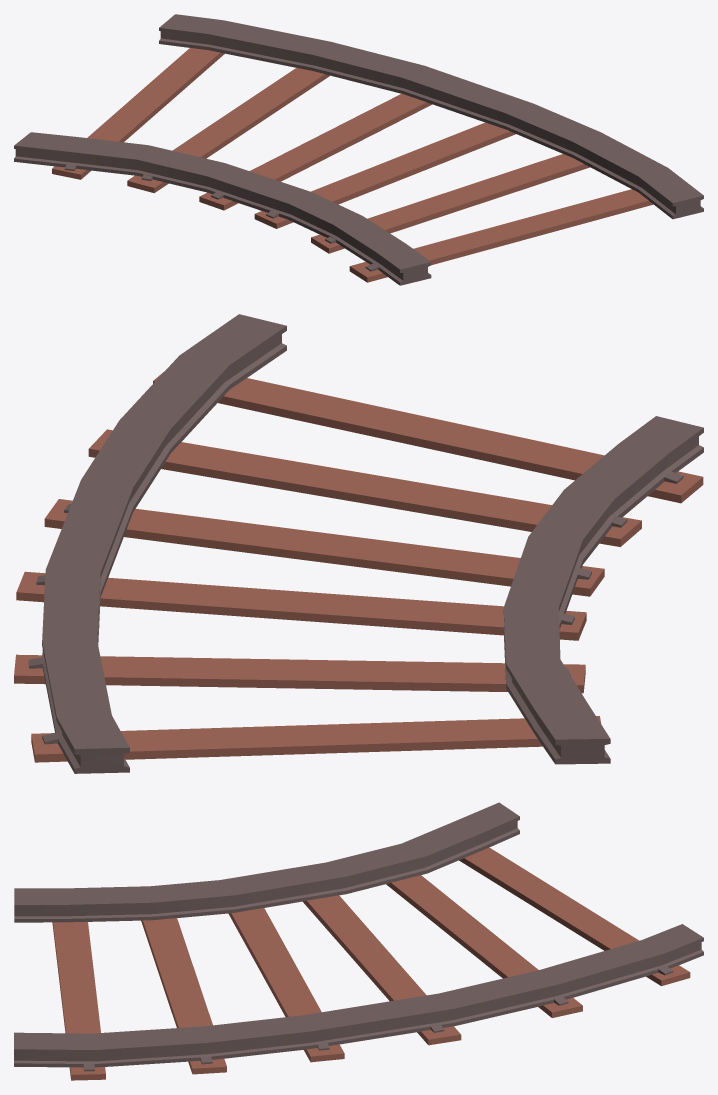
The model's file is Trilho_Curva_Maior_Esquerda.fbx.
3 views of the same model, one above another, from view 1: azimuth 30°, elevation 25°; view 2: azimuth 150°, elevation 25°; view 3: azimuth 270°, elevation 25° (orthographic). The views are drawn at different scales.
Visible parts, largest first — view 1: Trilho_Curva_Maior_Esquerda; view 2: Trilho_Curva_Maior_Esquerda; view 3: Trilho_Curva_Maior_Esquerda.
Boxes of the visible parts, bbox=[...] form: Trilho_Curva_Maior_Esquerda: bbox=[14, 14, 703, 285]; Trilho_Curva_Maior_Esquerda: bbox=[14, 314, 703, 773]; Trilho_Curva_Maior_Esquerda: bbox=[14, 802, 703, 1080].
Size of the model in its own units: 3.5 by 3.06 by 0.1294.
